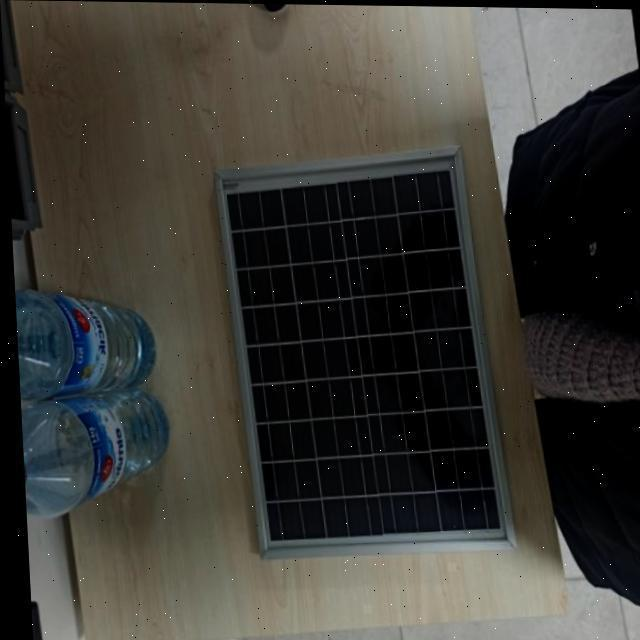Normal Solar Panel: (220, 144, 507, 554)
